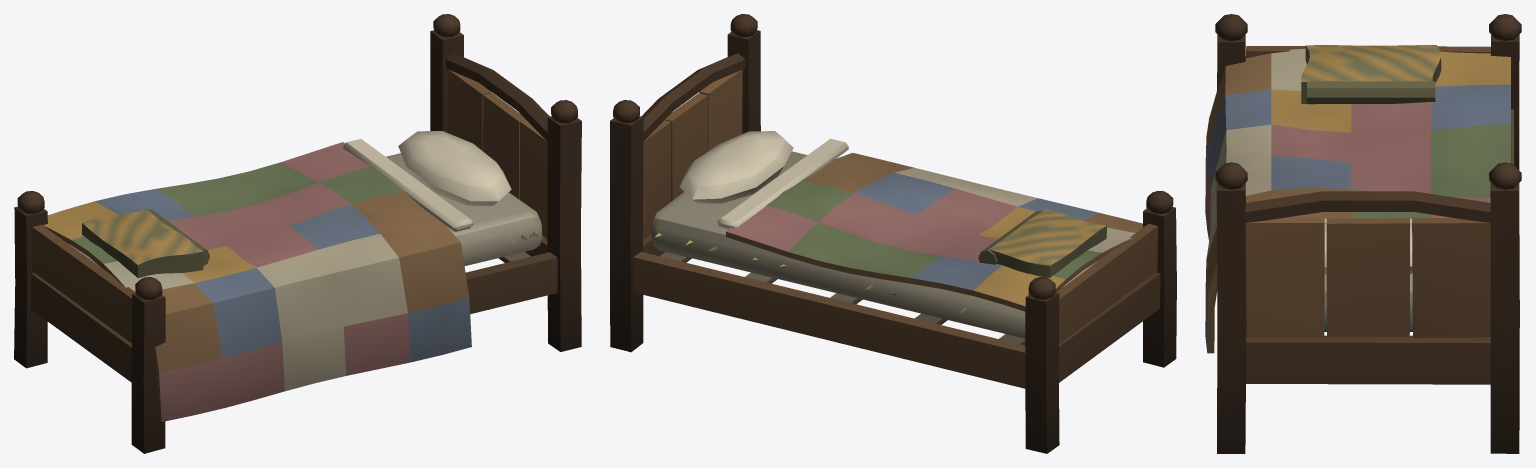
File: ph_int_bed.glb
3 renders of one model, left to right at view 1: azimuth 30°, elevation 25°; view 2: azimuth 150°, elevation 25°; view 3: azimuth 270°, elevation 25°, orthographic. The views are drawn at different scales.
Parts seen in each view (by area): view 1: ph_int_bed; view 2: ph_int_bed; view 3: ph_int_bed.
Part boxes in pixels (box(x1,y1,x2,y2)): ph_int_bed: box(14, 14, 581, 453); ph_int_bed: box(610, 14, 1176, 453); ph_int_bed: box(1205, 14, 1521, 453).
Bounding box in the file's own units: 2.07 × 1.1 × 1.11.
